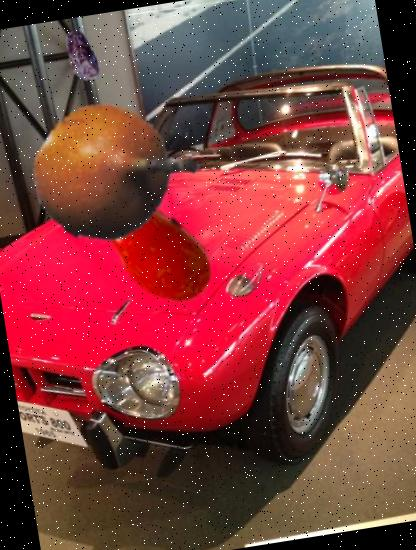Dates: (50, 25, 112, 87)
Granadilla: (23, 92, 194, 264)
Tomato: (75, 170, 232, 327)
